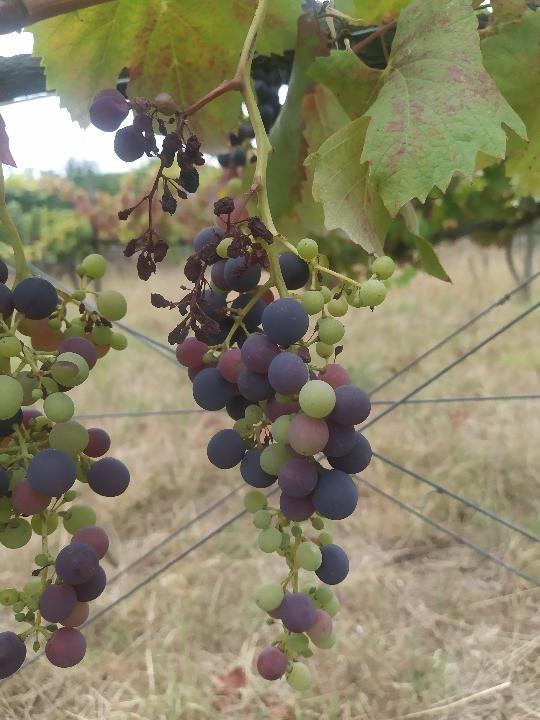grape: (150, 198, 400, 694), (90, 85, 213, 284)
